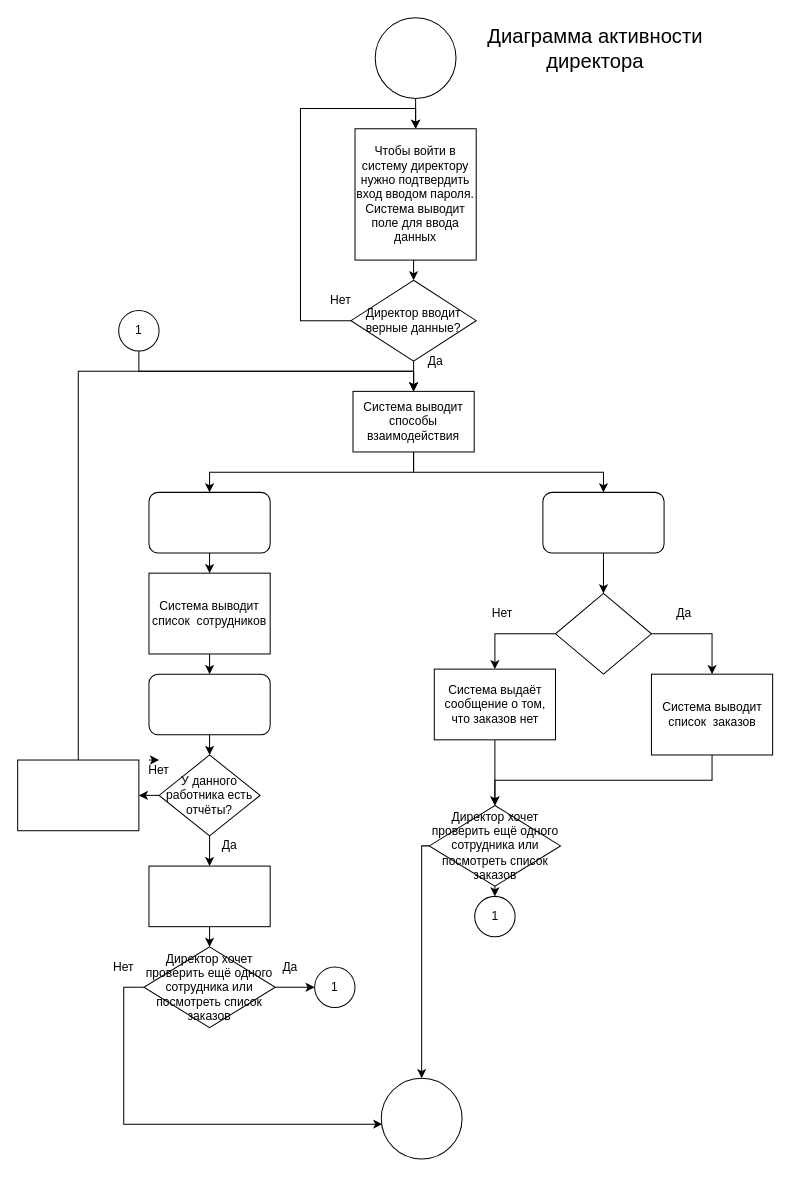
The diagram is 791 pixels wide and 1177 high, and some of its shapes have lost their labels. The shapes that lost their labels are listed below. From the top down, each one's centre as x and y in pixels, then its label:
(x=209, y=522): нажимает кнопку посмотреть отчёты
(x=603, y=522): нажимает кнопку посмотреть список заказов
(x=602, y=633): Список заказов не пустой ?
(x=209, y=704): Директор выбирает одного из сотрудников
(x=78, y=795): Система выдаёт сообщение о том, что отчетов у выбранного сотрудника нет
(x=209, y=896): Система выдаёт директору отчёты выбранного работника
